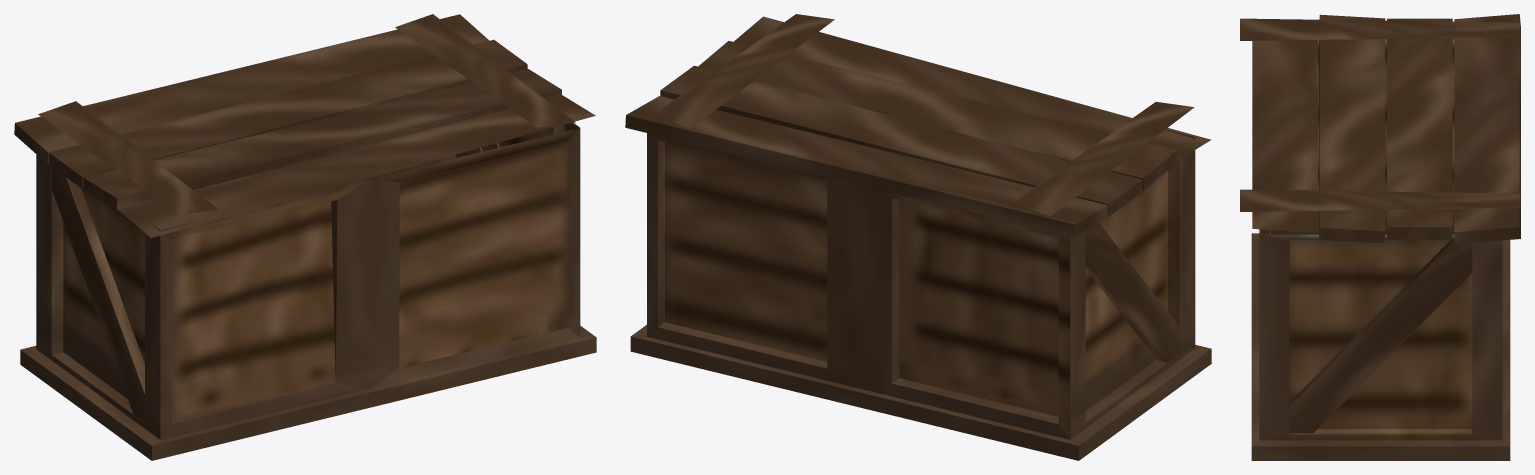
The model's file is Caixa2.fbx.
3 renders of one model, left to right at view 1: azimuth 30°, elevation 25°; view 2: azimuth 150°, elevation 25°; view 3: azimuth 270°, elevation 25°, orthographic. The views are drawn at different scales.
Parts seen in each view (by area): view 1: LOD_0; view 2: LOD_0; view 3: LOD_0.
Part boxes in pixels (left/top/right/bottom): LOD_0: left=14, top=14, right=596, bottom=460; LOD_0: left=625, top=14, right=1211, bottom=460; LOD_0: left=1240, top=14, right=1520, bottom=460.
Size of what is drawn, in the model's own units: 415 by 218 by 231.
